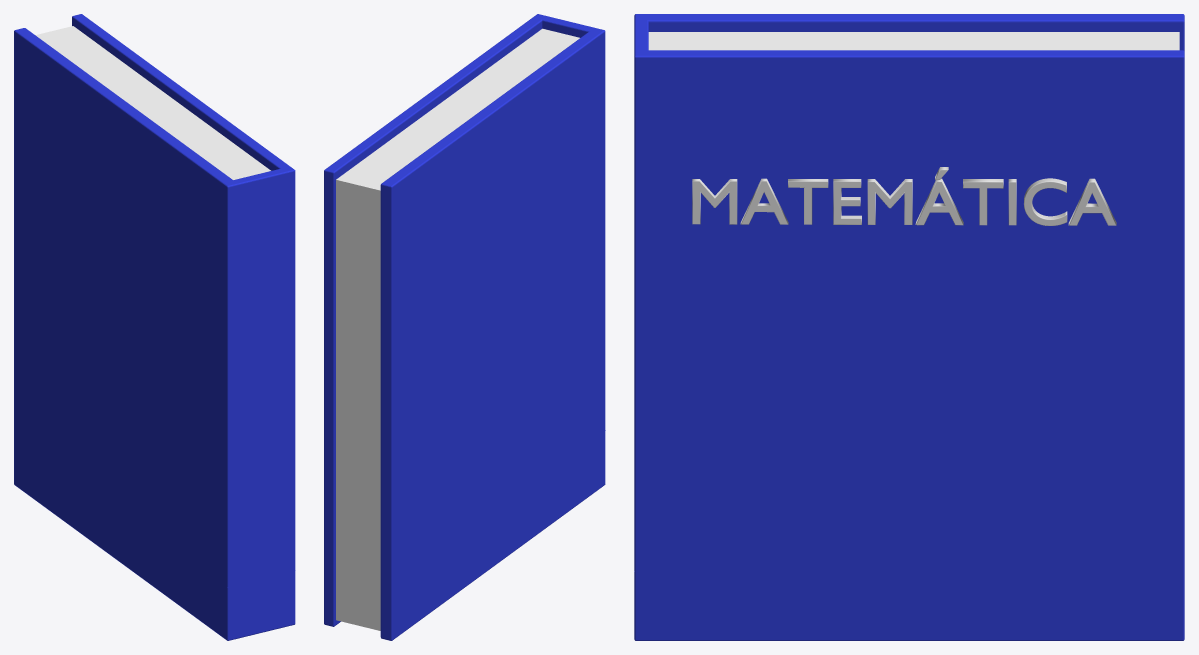
The model's file is livro.fbx.
3 views of the same model, side by side, from view 1: azimuth 30°, elevation 25°; view 2: azimuth 150°, elevation 25°; view 3: azimuth 270°, elevation 25° (orthographic). The views are drawn at different scales.
Visible parts, largest first — view 1: Cube; view 2: Cube; view 3: Cube, Texto.
Boxes of the visible parts, left/top/right/bottom form: Cube: left=14, top=14, right=295, bottom=640; Cube: left=324, top=14, right=605, bottom=640; Cube: left=634, top=14, right=1184, bottom=640; Texto: left=692, top=167, right=1116, bottom=225.
Bounding box in the file's own units: 320 × 1882 × 1604.
